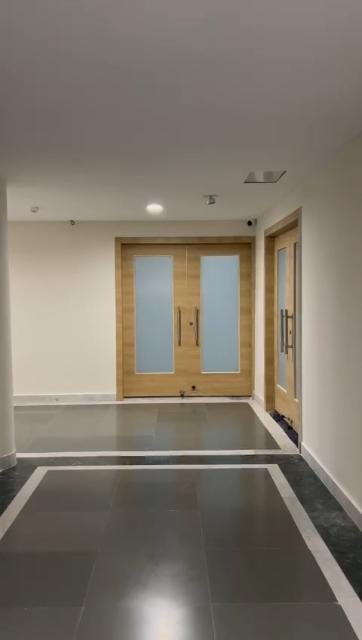door: (118, 242, 254, 400), (266, 225, 299, 415)
floor: (1, 403, 362, 640)
wall: (299, 128, 362, 499), (8, 224, 112, 388)
